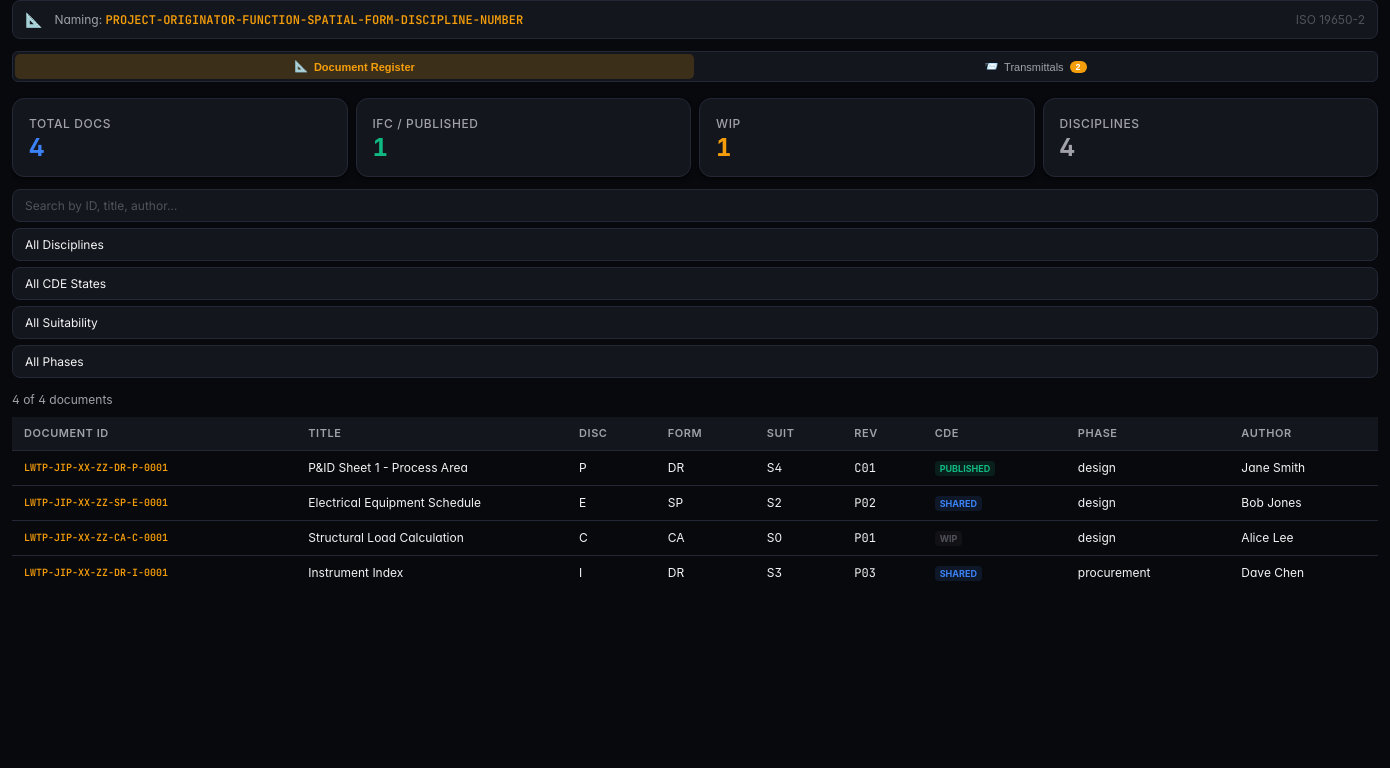
Test: DocumentsView — document register › search filters by title
Type "structural" into the search field named "search documents". click: {"x": 695, "y": 206}
box: [12, 189, 1378, 222]
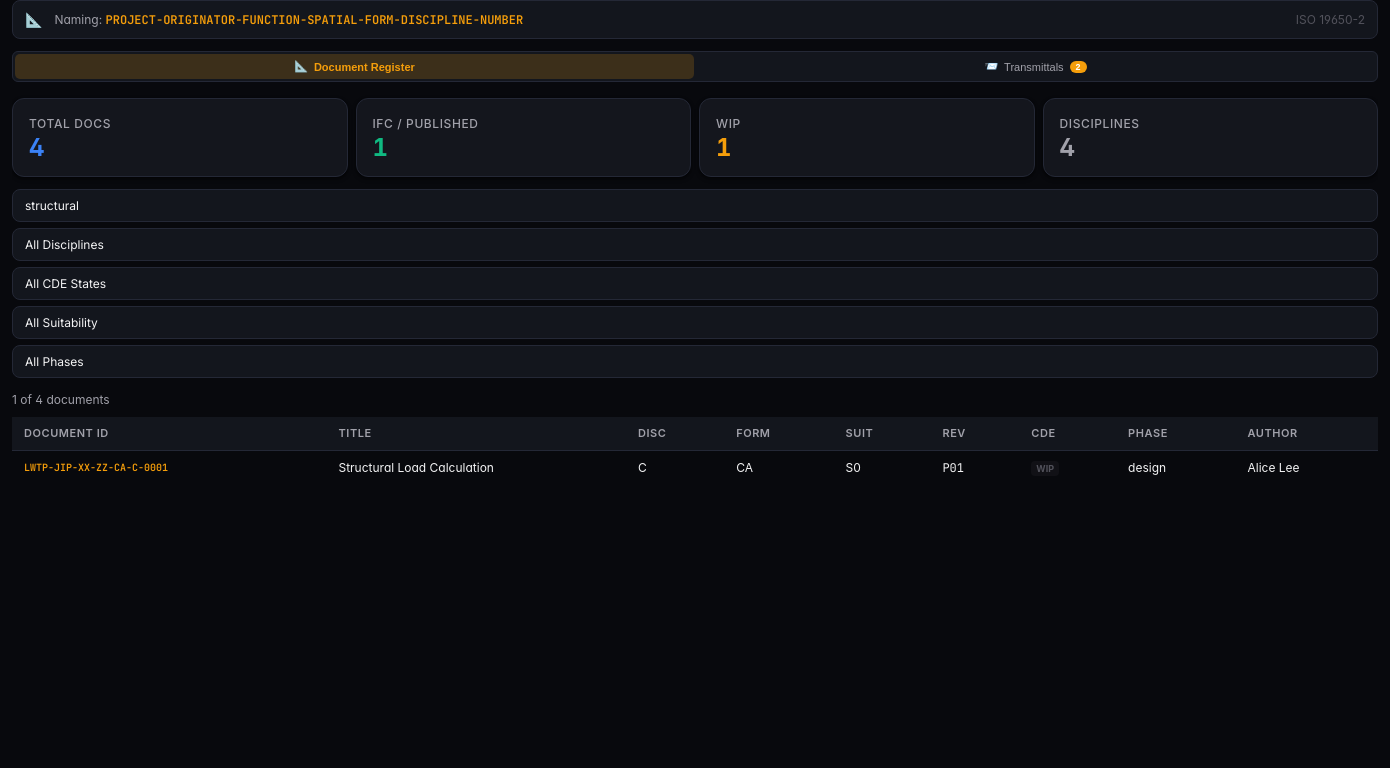
expect the text "LWTP-JIP-XX-ZZ-CA-C-0001" is shown: met, box [12, 450, 326, 484]
expect the text "LWTP-JIP-XX-ZZ-DR-P-0001" is gone: met
